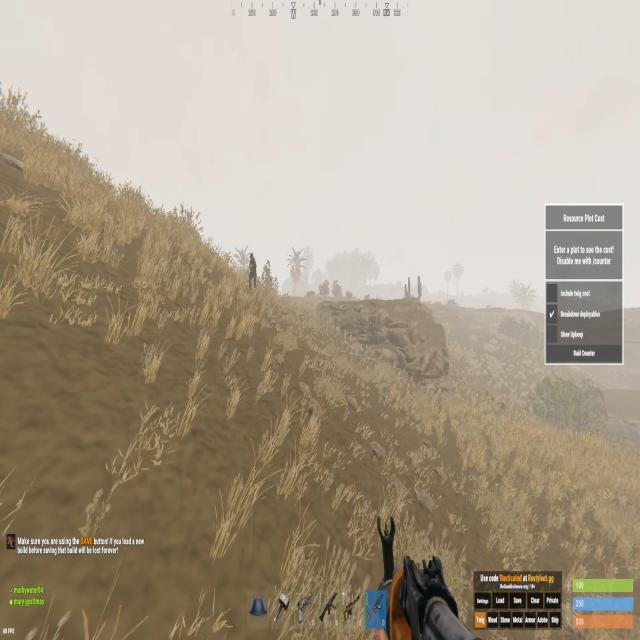Player: (248, 252, 257, 288)
